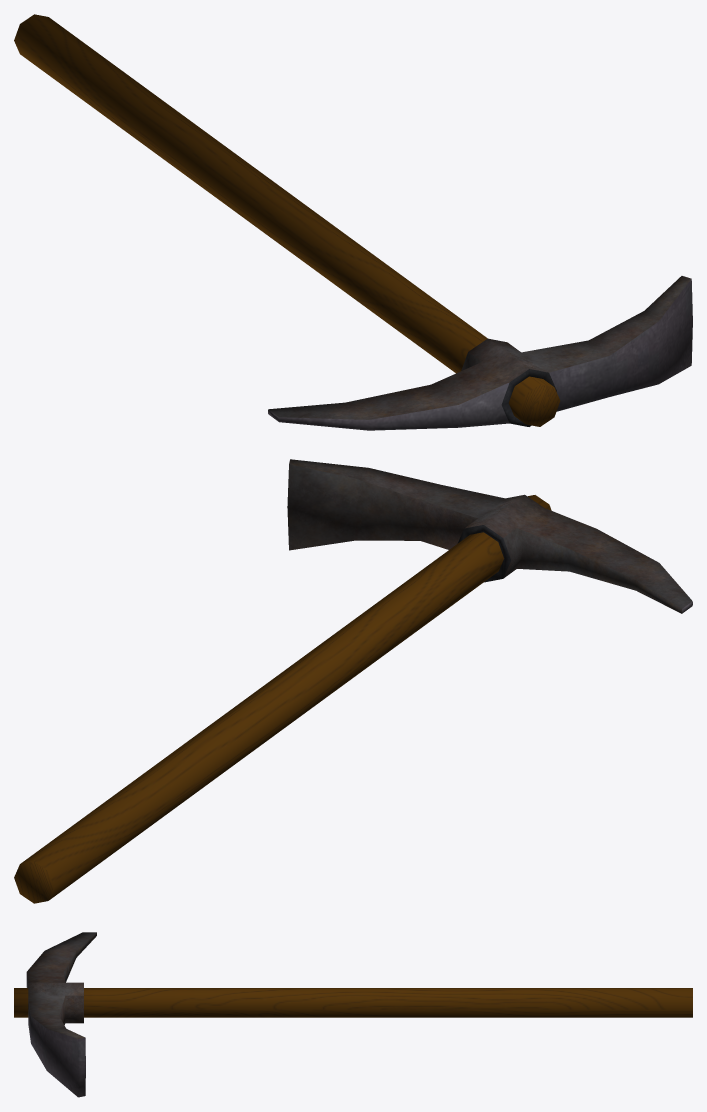
File: Pickaxe.fbx
The picture shows the model from 3 angles, top to bottom: view 1: azimuth 30°, elevation 25°; view 2: azimuth 150°, elevation 25°; view 3: azimuth 270°, elevation 25°; orthographic projection. The views are drawn at different scales.
Parts seen in each view (by area): view 1: PickAxe; view 2: PickAxe; view 3: PickAxe.
Boxes of the visible parts, bbox=[...] form: PickAxe: bbox=[14, 14, 692, 430]; PickAxe: bbox=[14, 459, 692, 903]; PickAxe: bbox=[14, 932, 692, 1097].
Bounding box in the file's own units: 18.48 × 3.74 × 39.38.
Materials: 1 (1 with a texture image).
